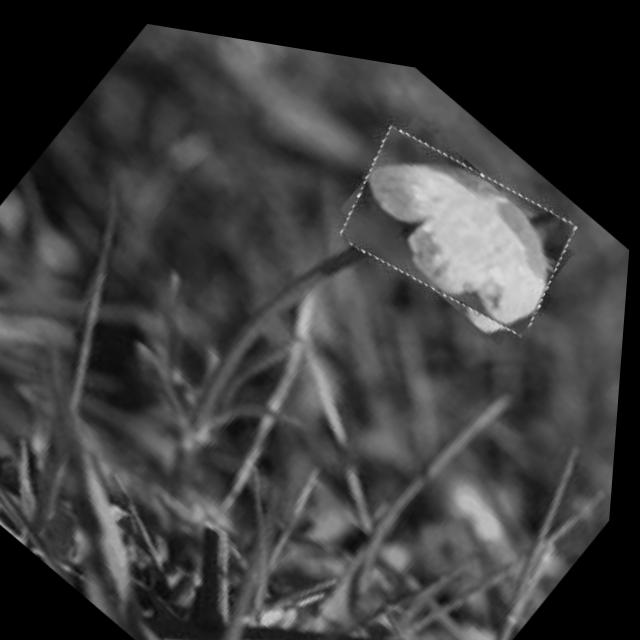Flower: (322, 79, 596, 352)
